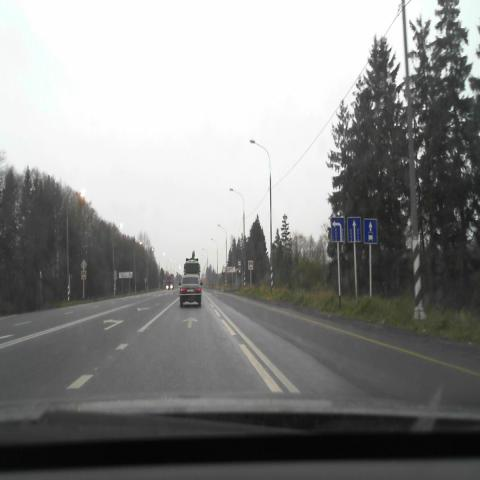5_14: (364, 218, 377, 244)
5_15_2: (331, 217, 345, 242)
